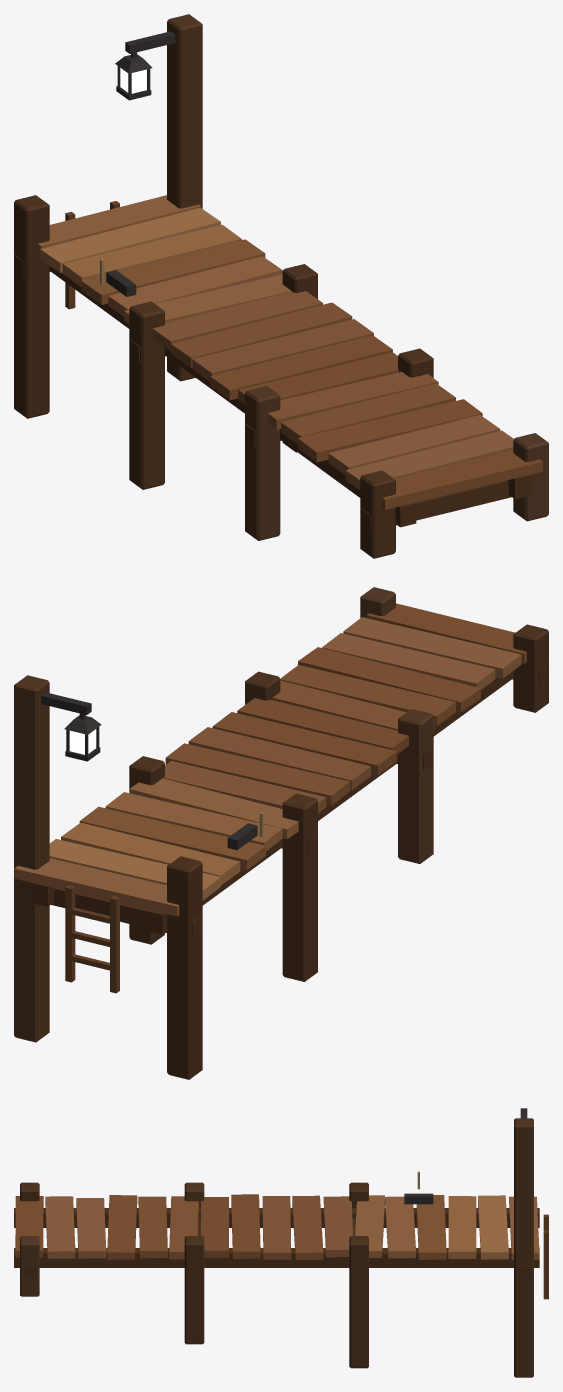
The model's file is Dock.glb.
The picture shows the model from 3 angles, top to bottom: view 1: azimuth 30°, elevation 25°; view 2: azimuth 150°, elevation 25°; view 3: azimuth 270°, elevation 25°; orthographic projection. The views are drawn at different scales.
Parts seen in each view (by area): view 1: Deck, Body; view 2: Deck, Body; view 3: Deck, Body.
Part boxes in pixels (x1,y1,x2,y2): Deck: [37, 195, 542, 509]; Body: [14, 14, 548, 558]; Deck: [14, 603, 526, 916]; Body: [14, 587, 548, 1079]; Deck: [15, 1194, 539, 1259]; Body: [14, 1108, 548, 1377].
Size of what is drawn, in the model's own units: 5.6 by 10.6 by 20.35.
